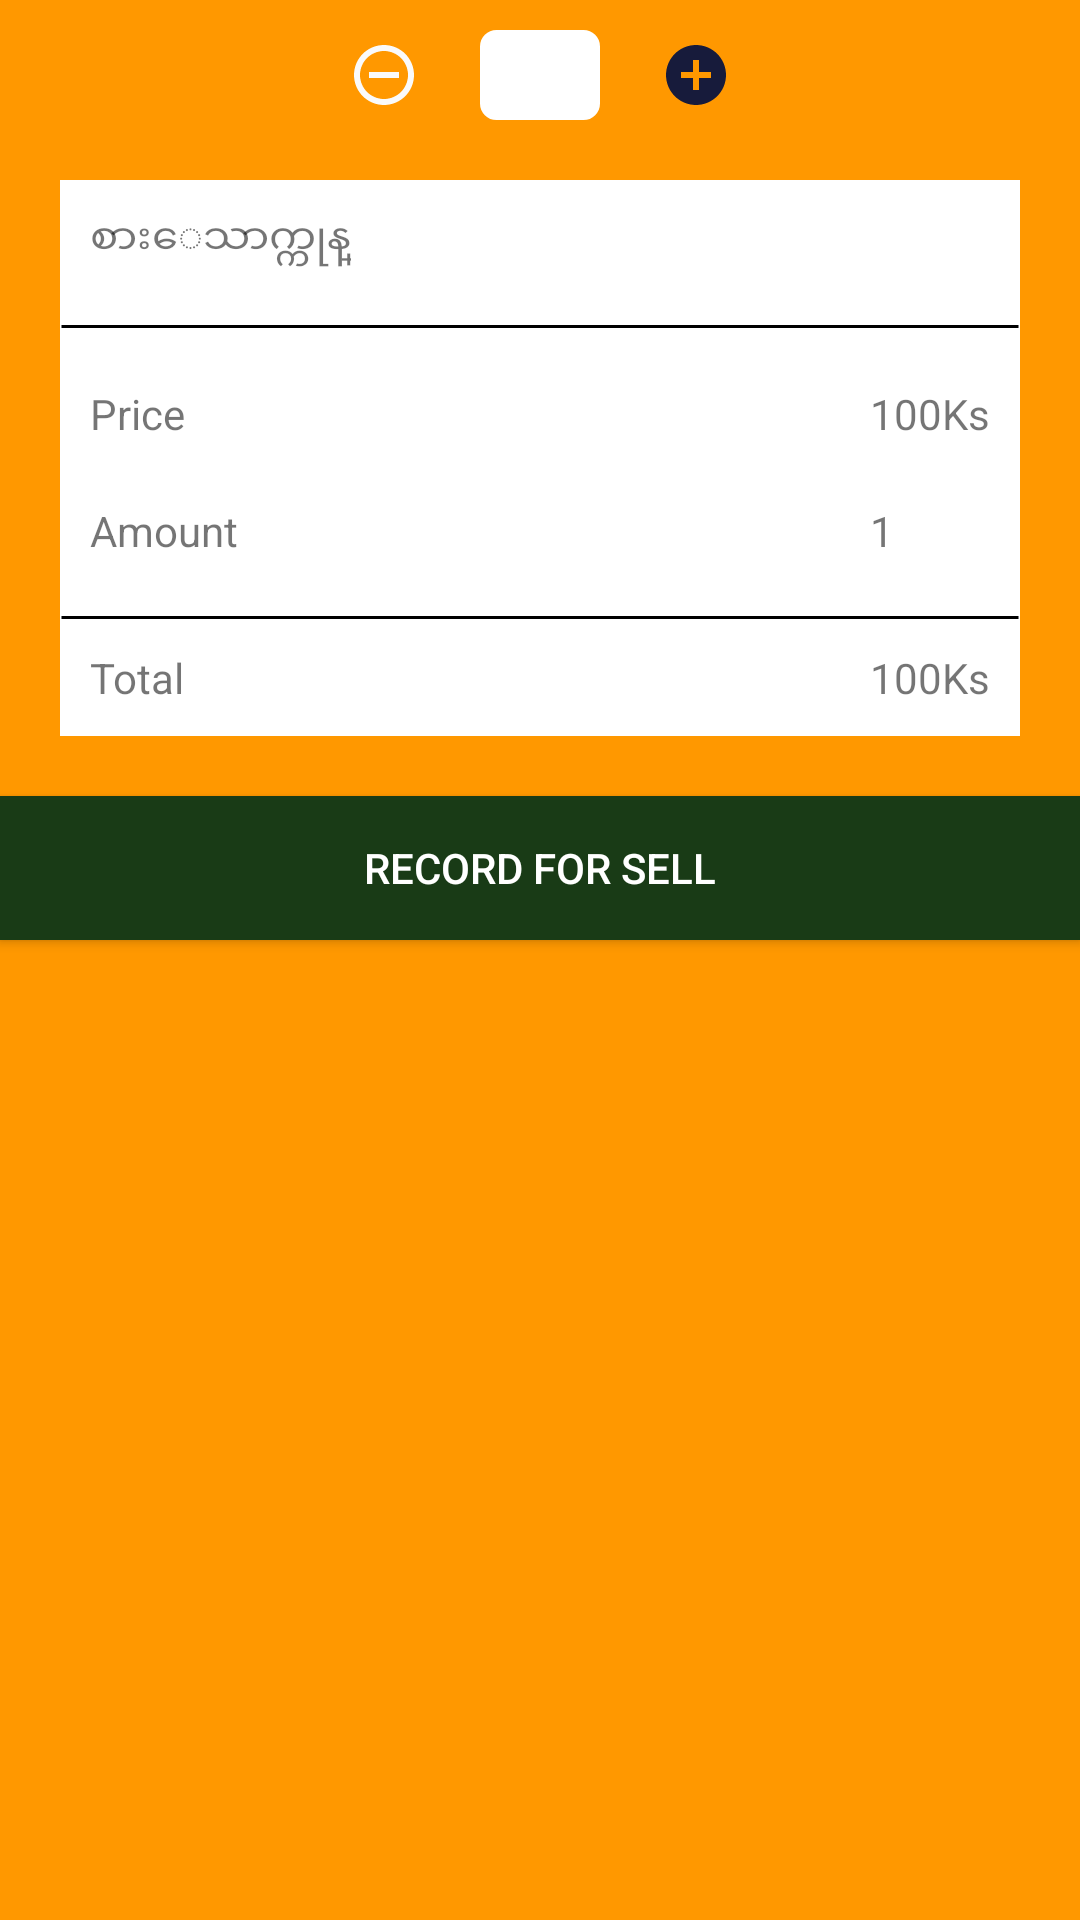

Icon bounding boxes for this 1080px×1920px phone screenshot, format (x1, y1, x2, y2):
add circle: (666, 45, 726, 105)
remove circle: (354, 45, 414, 105)
